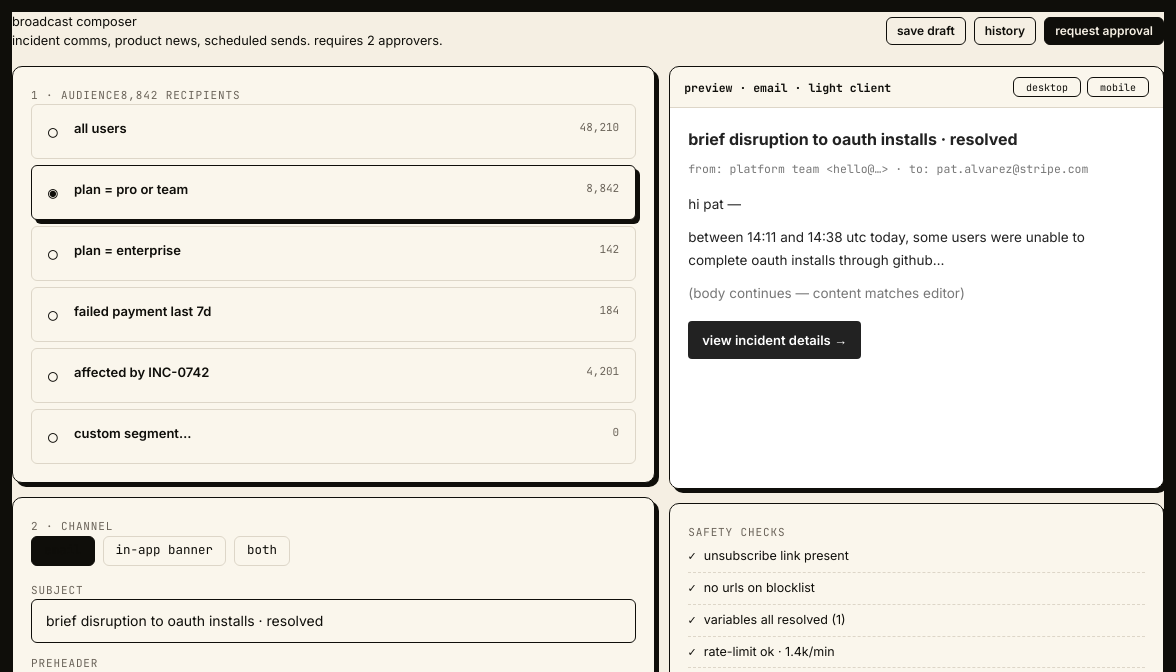
<BroadcastScreen> › reveals the custom-segment SQL editor when audience=custom
The width and height of the screenshot is (1176, 672).
expect the text "dry-run · count" is not shown: met
Click the text "custom segment…" at (133, 433), box [74,425,191,441]
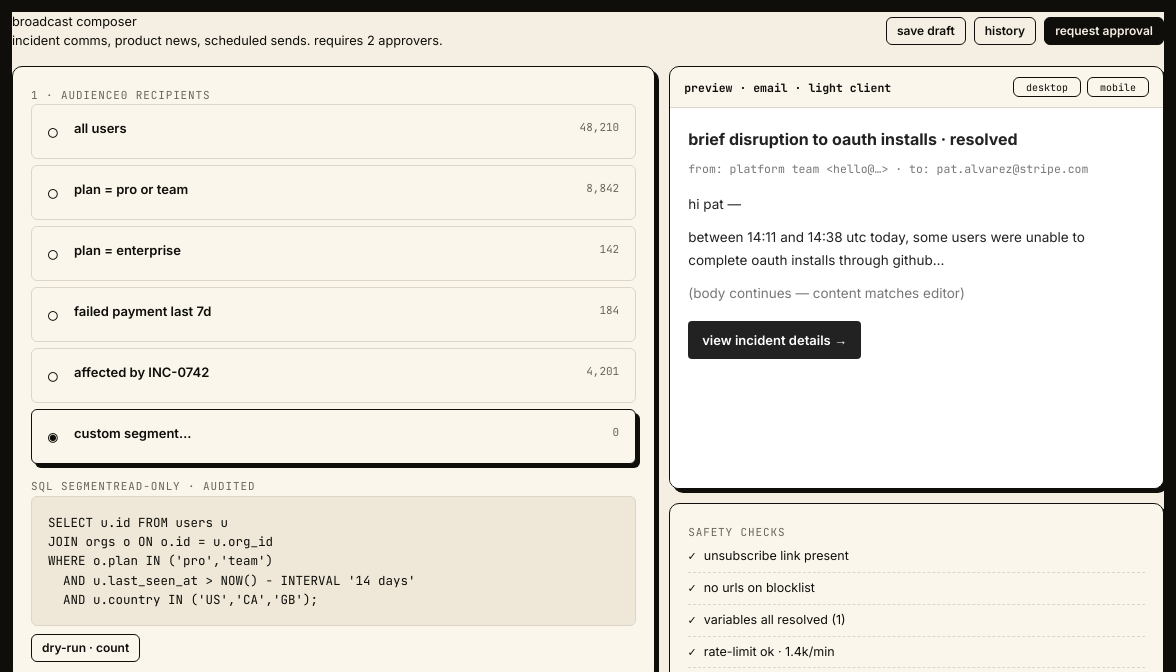
expect the text "sql segment" is shown: met, box [31,479,113,493]
expect the text "dry-run · count" is shown: met, box [42,642,129,654]
